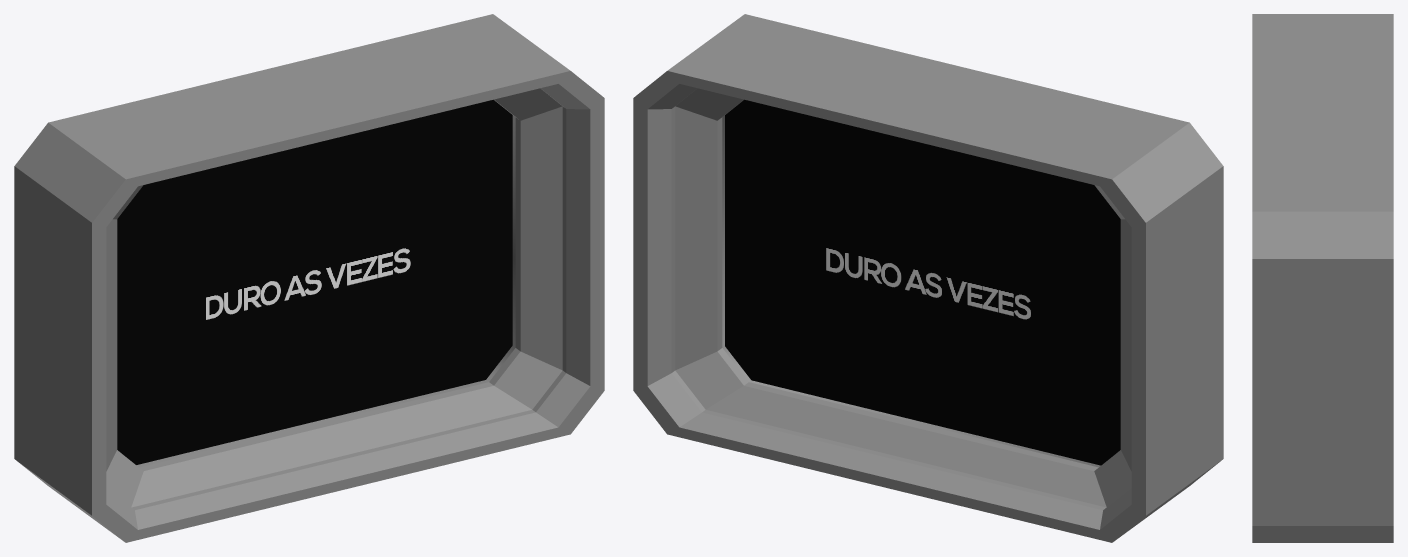
Rendered from LetreinoResposta_Mapa10.FBX.
3 views of the same model, side by side, from view 1: azimuth 30°, elevation 25°; view 2: azimuth 150°, elevation 25°; view 3: azimuth 270°, elevation 25° (orthographic). The views are drawn at different scales.
Visible parts, largest first — view 1: Box002, Box003; view 2: Box002, Box003; view 3: Box002.
Boxes of the visible parts, bbox=[...] form: Box002: bbox=[14, 14, 604, 542]; Box003: bbox=[117, 99, 512, 464]; Box002: bbox=[633, 14, 1223, 542]; Box003: bbox=[725, 99, 1120, 465]; Box002: bbox=[1252, 14, 1393, 542].
Size of the model in its own units: 295 by 200 by 77.36.
